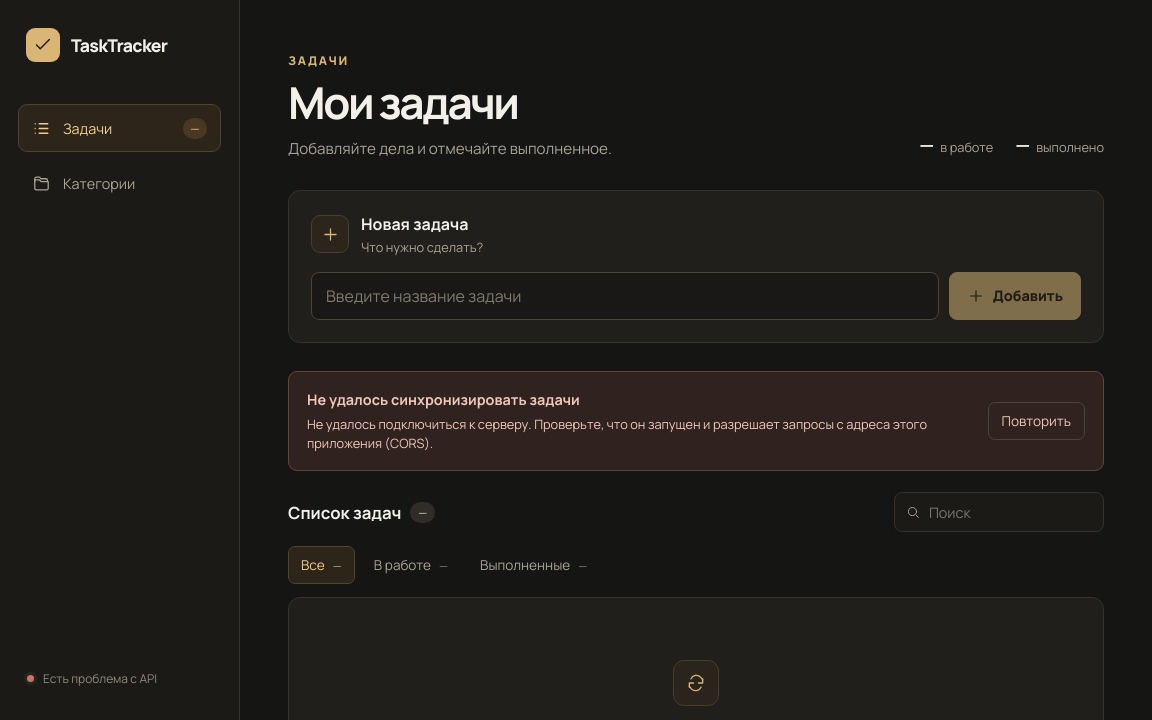
TaskTracker › shows initial network failure and supports retry
Expected: the message is shown, [288, 371, 1104, 471]
Click the button "Повторить": x=1036, y=421 [988, 402, 1085, 440]
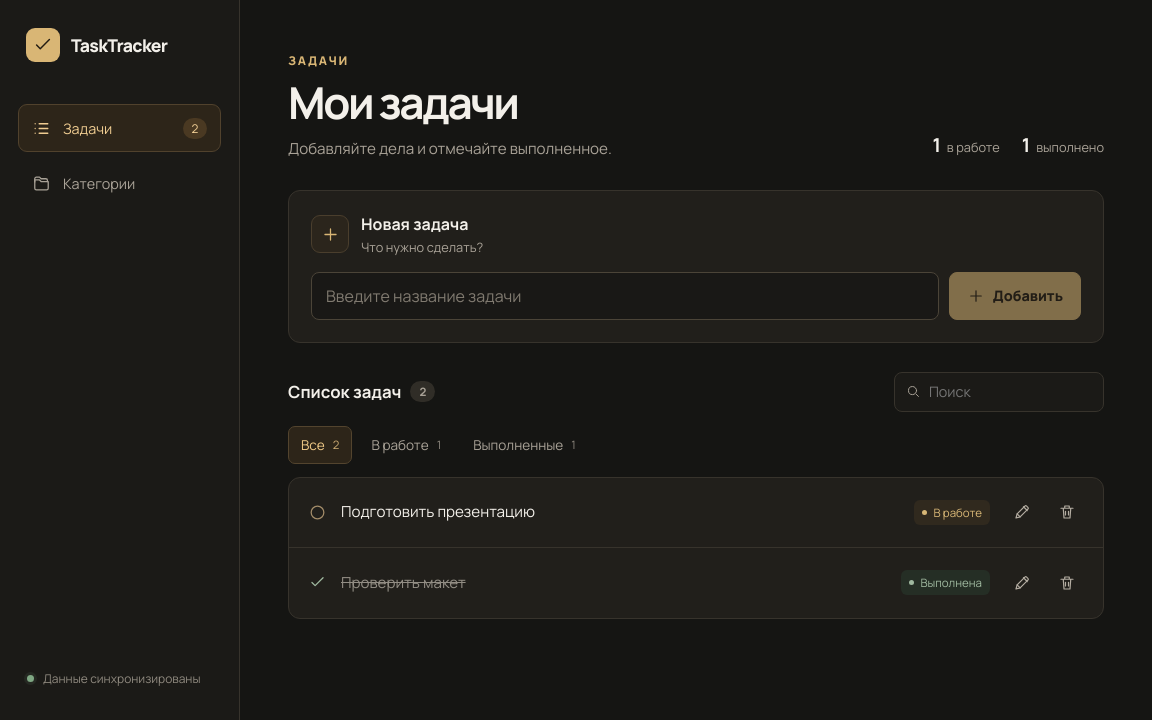
Result: the text "Подготовить презентацию" is shown at [341, 501, 535, 522]
Result: the message is gone
